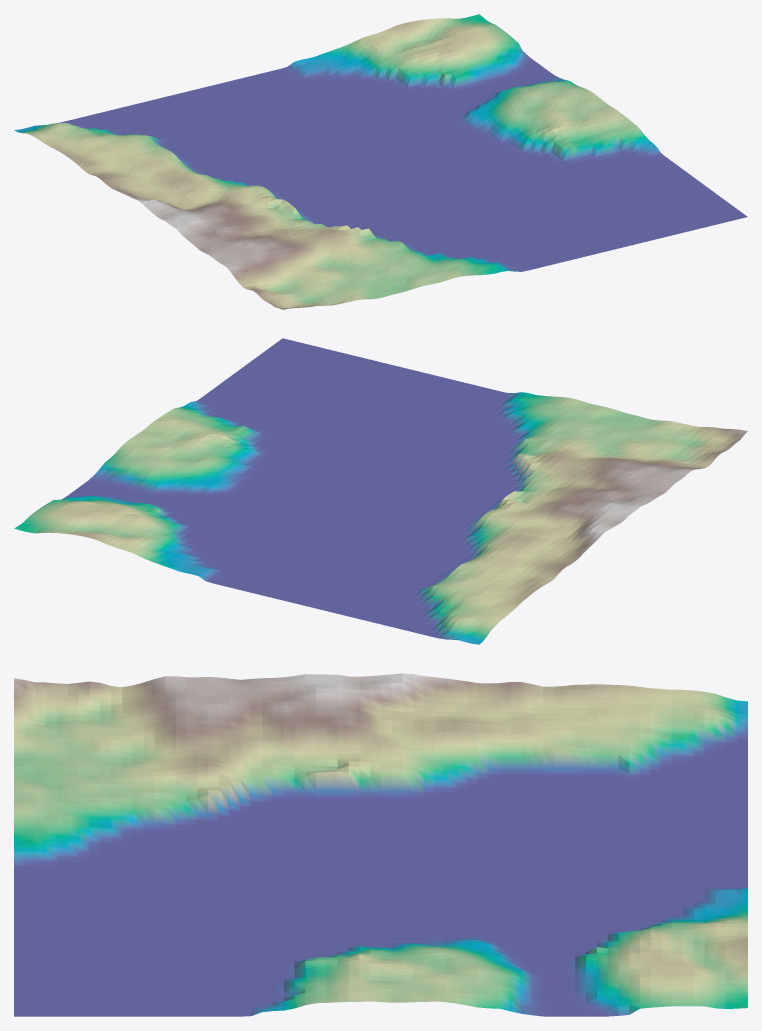
Rendered from 001707_terrain_only.glb.
3 views of the same model, one above another, from view 1: azimuth 30°, elevation 25°; view 2: azimuth 150°, elevation 25°; view 3: azimuth 270°, elevation 25° (orthographic). The views are drawn at different scales.
Visible parts, largest first — view 1: terrain; view 2: terrain; view 3: terrain.
Part boxes in pixels (bbox=[...]): terrain: bbox=[14, 14, 747, 309]; terrain: bbox=[14, 338, 747, 644]; terrain: bbox=[14, 673, 747, 1016].
Bounding box in the file's own units: 0.0183 × 0.000911 × 0.0183.
